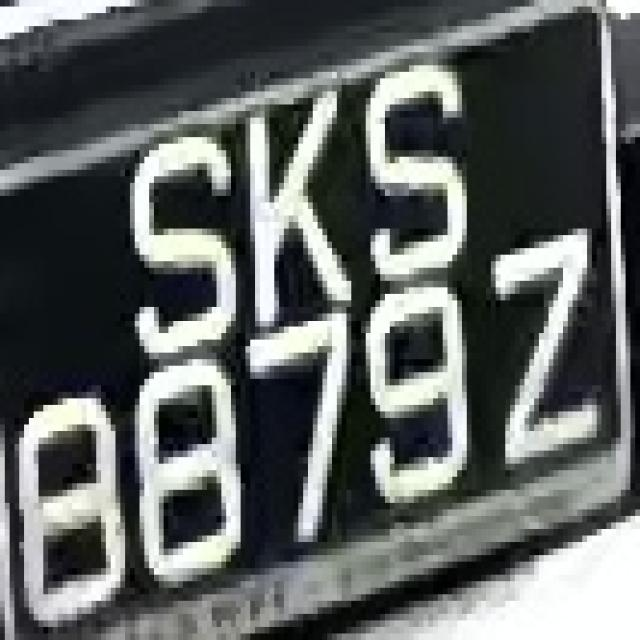7: (236, 327, 346, 536)
8: (116, 352, 274, 588), (10, 379, 149, 640)
9: (351, 287, 486, 490)
K: (231, 79, 361, 288)
S: (110, 137, 240, 346), (342, 85, 486, 261)
Z: (476, 235, 621, 496)
